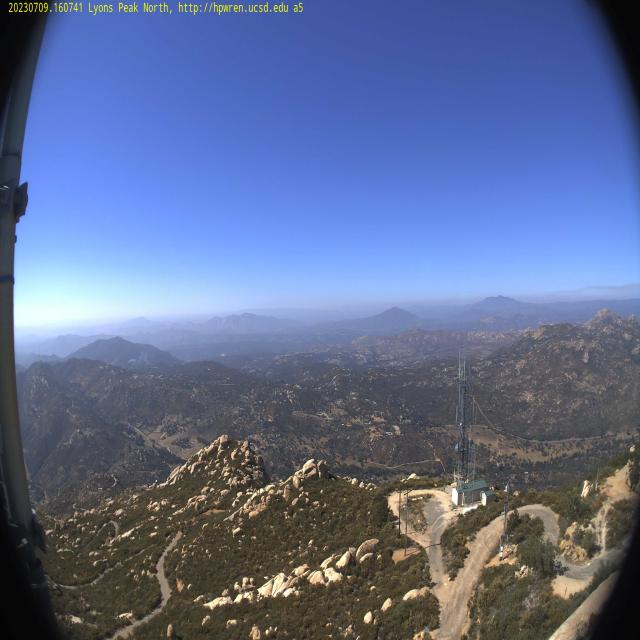smoke: (124, 346, 154, 367)
